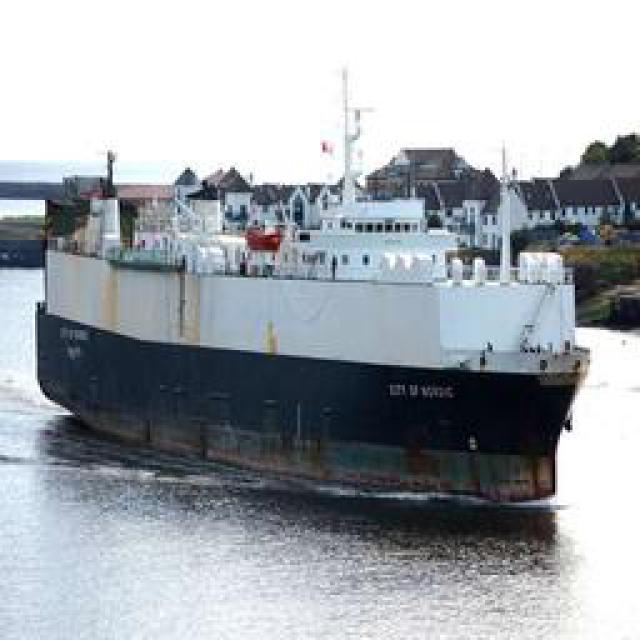Ship: (46, 116, 586, 509)
